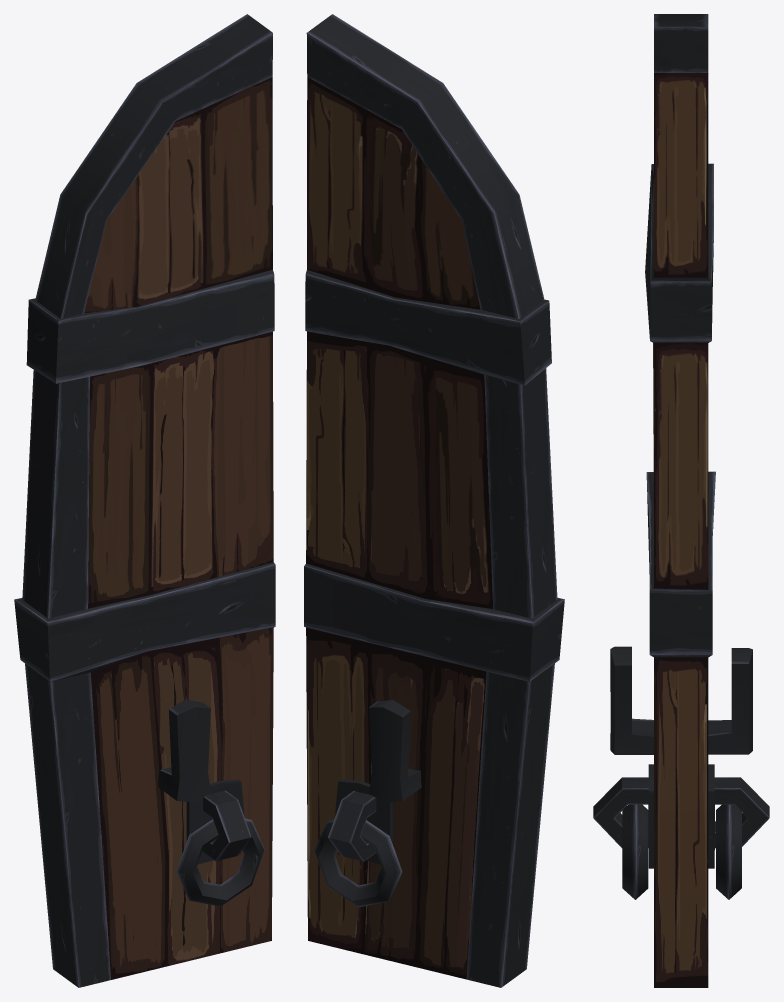
File: MOD_Gateway_Door_01_large_door_L.fbx
3 views of the same model, side by side, from view 1: azimuth 30°, elevation 25°; view 2: azimuth 150°, elevation 25°; view 3: azimuth 270°, elevation 25° (orthographic). The views are drawn at different scales.
Parts seen in each view (by area): view 1: MOD_Gateway_Door_01_large_door_L; view 2: MOD_Gateway_Door_01_large_door_L; view 3: MOD_Gateway_Door_01_large_door_L.
Boxes of the visible parts, x1,y1,x2,y2 form: MOD_Gateway_Door_01_large_door_L: (14,14,275,987); MOD_Gateway_Door_01_large_door_L: (304,14,564,987); MOD_Gateway_Door_01_large_door_L: (593,14,769,987).
Size of what is drawn, in the model's own units: 143 by 539 by 89.55.
